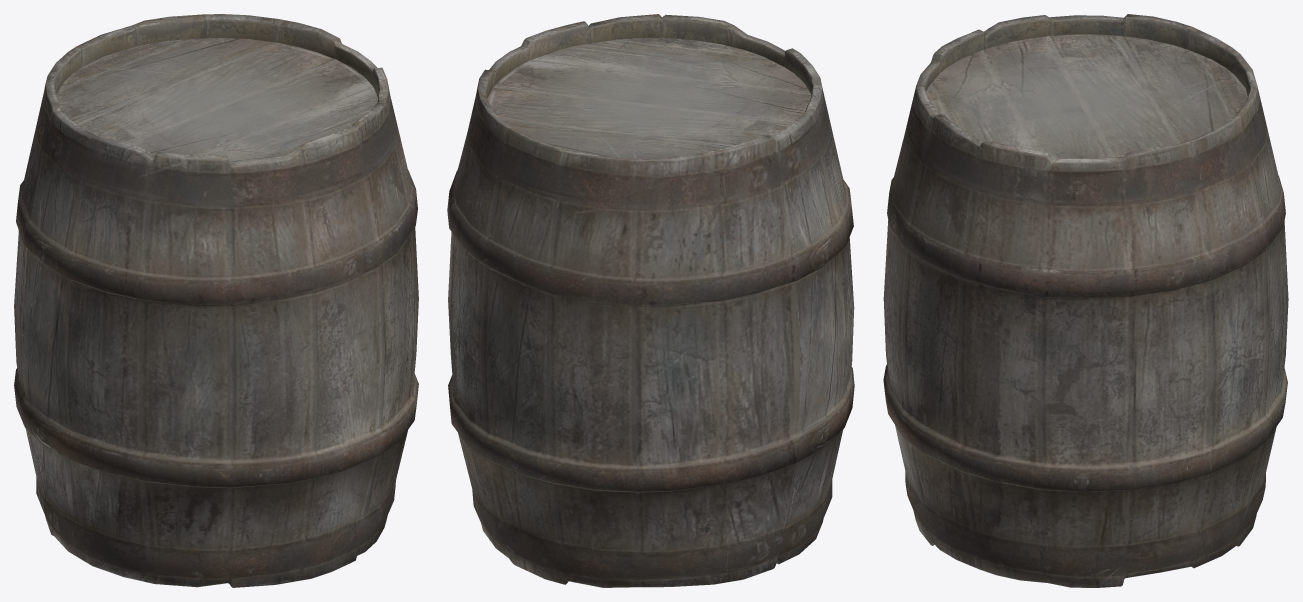
File: Barrel4.obj
3 views of the same model, side by side, from view 1: azimuth 30°, elevation 25°; view 2: azimuth 150°, elevation 25°; view 3: azimuth 270°, elevation 25° (orthographic).
Parts seen in each view (by area): view 1: group_007; view 2: group_007; view 3: group_007.
Part boxes in pixels (x1,y1,x2,y2): group_007: (14,14,418,587); group_007: (447,14,854,587); group_007: (883,14,1288,587).
Size of the model in its own units: 0.9067 by 1.08 by 0.9056.
1 material, 1 textured.
